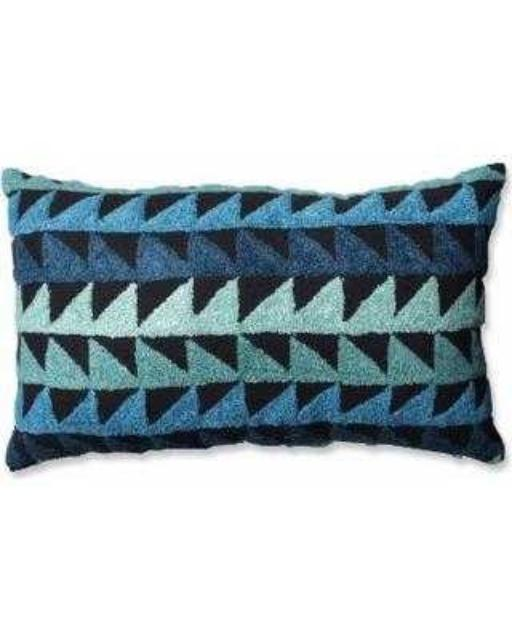pillow: (0, 158, 508, 472)
